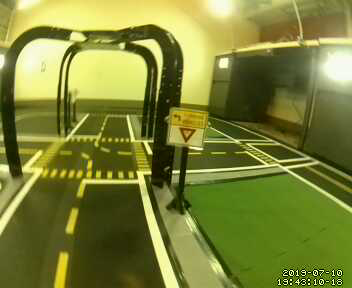Turn Yield: (167, 106, 206, 154)
